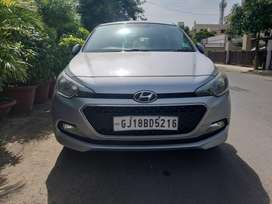GJ18BD5216: (113, 116, 177, 130)
